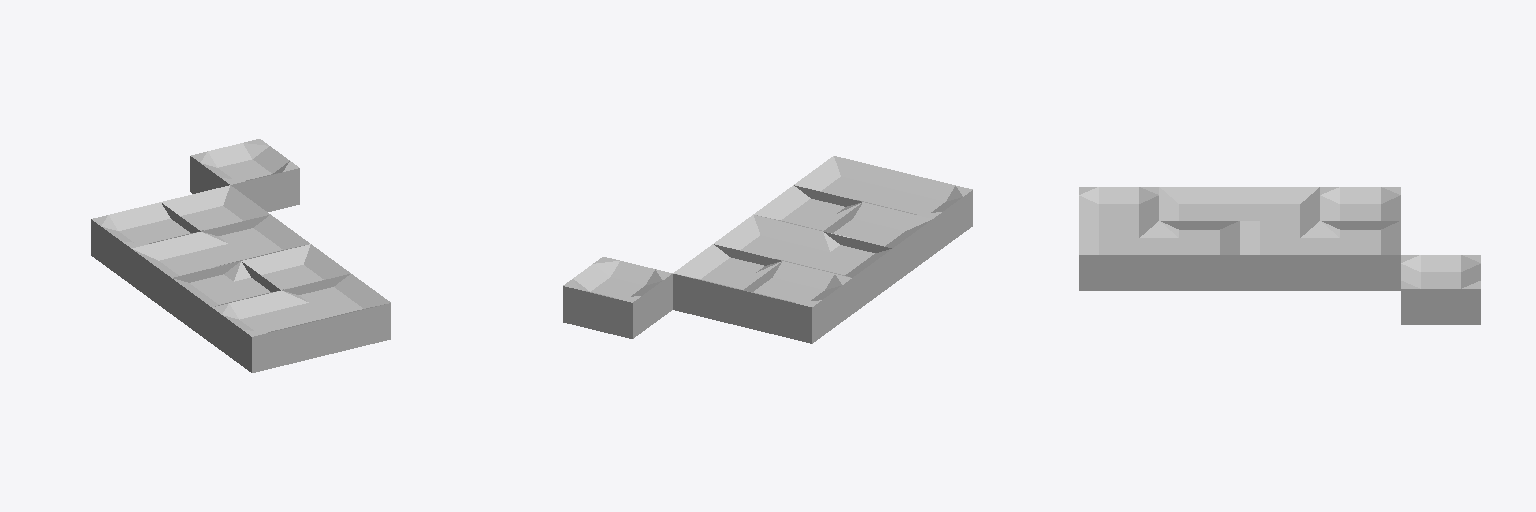
Rendered from 63s_path.obj.
The picture shows the model from 3 angles: view 1: azimuth 30°, elevation 25°; view 2: azimuth 150°, elevation 25°; view 3: azimuth 270°, elevation 25°; orthographic projection.
Parts seen in each view (by area): view 1: ending.0.0_ending.549, corner.1.0_corner.1360, hole.2.4_Cube.276, corner.0.2_corner.1359, ending.0.3_ending.550, corner.0.1_corner.1358, corner.1.2_corner.1362, corner.1.3_corner.1363, corner.1.1_corner.1361; view 2: hole.2.4_Cube.276, ending.0.3_ending.550, corner.1.3_corner.1363, corner.0.1_corner.1358, corner.0.2_corner.1359, ending.0.0_ending.549, corner.1.0_corner.1360, corner.1.2_corner.1362, corner.1.1_corner.1361; view 3: corner.1.3_corner.1363, hole.2.4_Cube.276, corner.1.1_corner.1361, corner.1.0_corner.1360, corner.1.2_corner.1362, ending.0.0_ending.549, corner.0.2_corner.1359, corner.0.1_corner.1358, ending.0.3_ending.550.
Part boxes in pixels (x1,y1,x2,y2): ending.0.0_ending.549: (212,290,321,372); corner.1.0_corner.1360: (282,274,390,355); hole.2.4_Cube.276: (190,139,299,211); corner.0.2_corner.1359: (131,232,240,313); ending.0.3_ending.550: (91,202,196,283); corner.0.1_corner.1358: (172,261,280,343); corner.1.2_corner.1362: (201,215,309,262); corner.1.3_corner.1363: (161,185,270,232); corner.1.1_corner.1361: (242,244,350,291); hole.2.4_Cube.276: (563,257,672,338); ending.0.3_ending.550: (742,261,851,343); corner.1.3_corner.1363: (673,244,781,326); corner.0.1_corner.1358: (824,202,932,283); corner.0.2_corner.1359: (785,232,892,313); ending.0.0_ending.549: (865,173,972,254); corner.1.0_corner.1360: (794,156,902,206); corner.1.2_corner.1362: (714,215,822,265); corner.1.1_corner.1361: (753,185,862,232); corner.1.3_corner.1363: (1320,221,1400,290); hole.2.4_Cube.276: (1401,255,1480,324); corner.1.1_corner.1361: (1159,221,1239,290); corner.1.0_corner.1360: (1079,221,1158,290); corner.1.2_corner.1362: (1240,221,1319,290); ending.0.0_ending.549: (1079,187,1158,229); corner.0.2_corner.1359: (1240,187,1319,229); corner.0.1_corner.1358: (1159,187,1239,229); ending.0.3_ending.550: (1320,187,1400,220).
Size of the model in its own units: 6 by 1 by 10.